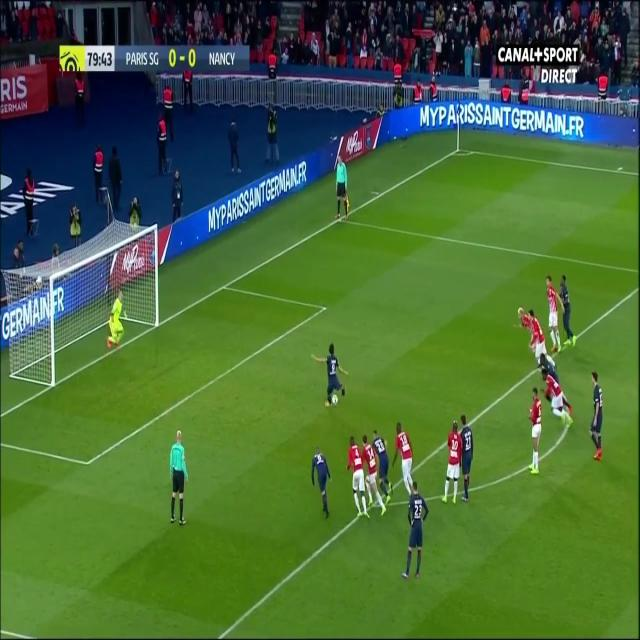Ball: (330, 391, 340, 409)
Goalkeeper: (103, 292, 129, 351)
Player: (400, 480, 429, 582), (312, 343, 350, 408), (359, 432, 387, 516), (346, 434, 372, 520), (540, 368, 576, 428), (440, 419, 462, 507), (391, 420, 414, 501), (586, 371, 605, 464), (544, 272, 564, 358), (558, 275, 580, 353), (373, 428, 394, 507), (528, 308, 554, 368), (310, 448, 332, 518), (527, 386, 543, 478), (461, 412, 473, 504), (516, 306, 530, 330)
Referee: (167, 424, 191, 530), (334, 152, 351, 227)
